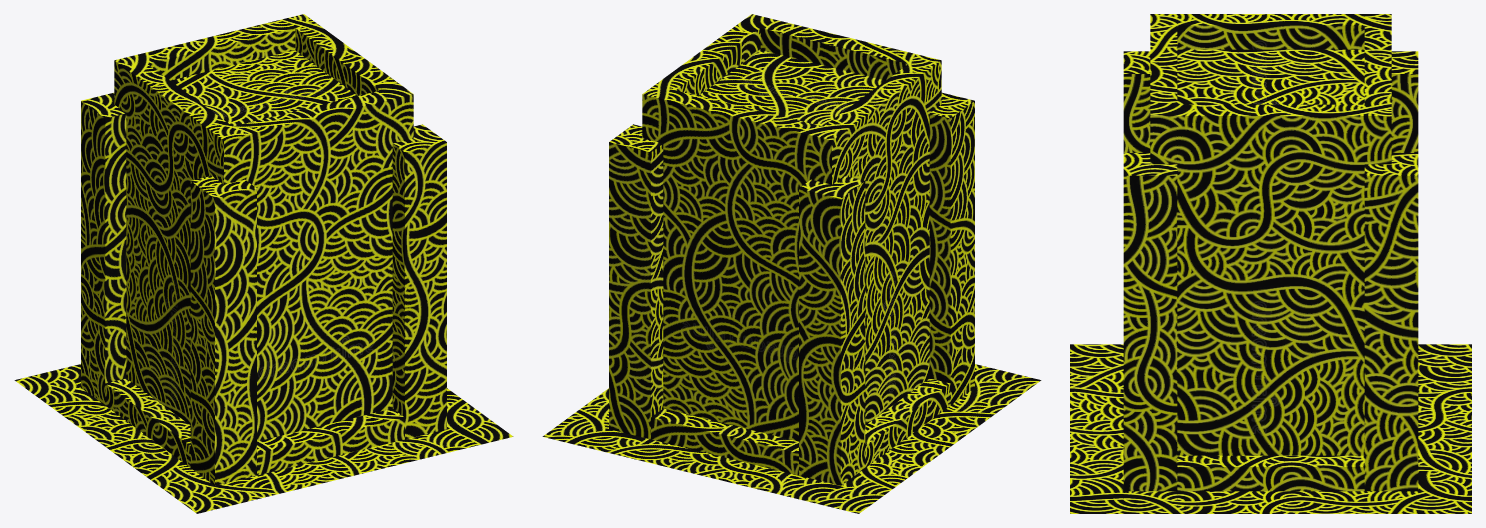
The model's file is SecondLevelPanel.fbx.
3 views of the same model, side by side, from view 1: azimuth 30°, elevation 25°; view 2: azimuth 150°, elevation 25°; view 3: azimuth 270°, elevation 25° (orthographic). The views are drawn at different scales.
Parts seen in each view (by area): view 1: FirstLevel.002, FirstLevel.005, FirstLevel, FirstLevel.004, FirstLevel.001; view 2: FirstLevel.002, FirstLevel.005, FirstLevel, FirstLevel.004, FirstLevel.001; view 3: FirstLevel.002, FirstLevel.005, FirstLevel, FirstLevel.001, FirstLevel.004.
Boxes of the visible parts, left/top/right/bottom form: FirstLevel.002: left=114, top=14, right=413, bottom=441; FirstLevel.005: left=81, top=92, right=446, bottom=485; FirstLevel: left=14, top=364, right=513, bottom=513; FirstLevel.004: left=105, top=378, right=404, bottom=475; FirstLevel.001: left=170, top=50, right=357, bottom=126; FirstLevel.002: left=642, top=14, right=941, bottom=441; FirstLevel.005: left=609, top=92, right=974, bottom=485; FirstLevel: left=542, top=364, right=1041, bottom=513; FirstLevel.004: left=651, top=378, right=950, bottom=475; FirstLevel.001: left=698, top=50, right=885, bottom=126; FirstLevel.002: left=1150, top=14, right=1391, bottom=455; FirstLevel.005: left=1123, top=51, right=1418, bottom=491; FirstLevel: left=1070, top=344, right=1471, bottom=513; FirstLevel.001: left=1177, top=49, right=1364, bottom=104; FirstLevel.004: left=1177, top=455, right=1364, bottom=491.
Bounding box in the file's own units: 3000 × 3000 × 3000.
